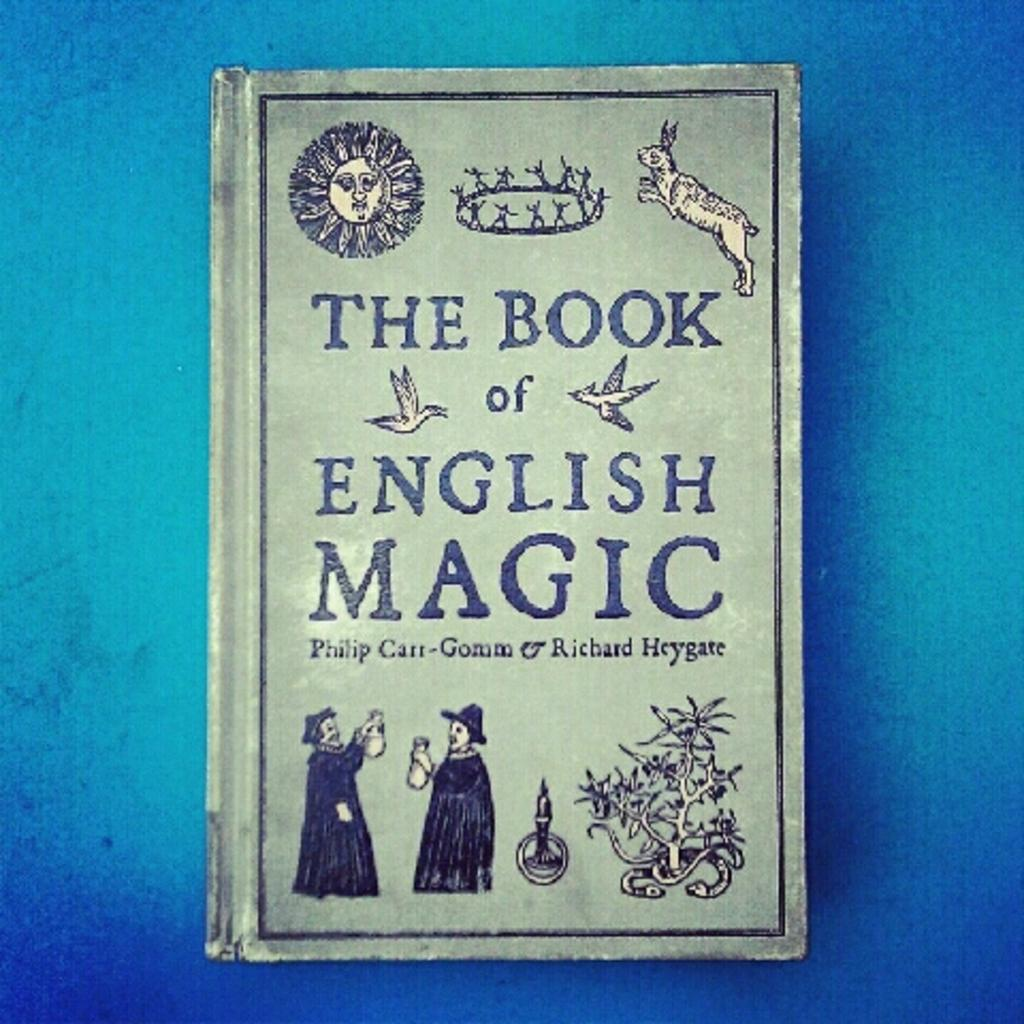book: (202, 68, 806, 962)
